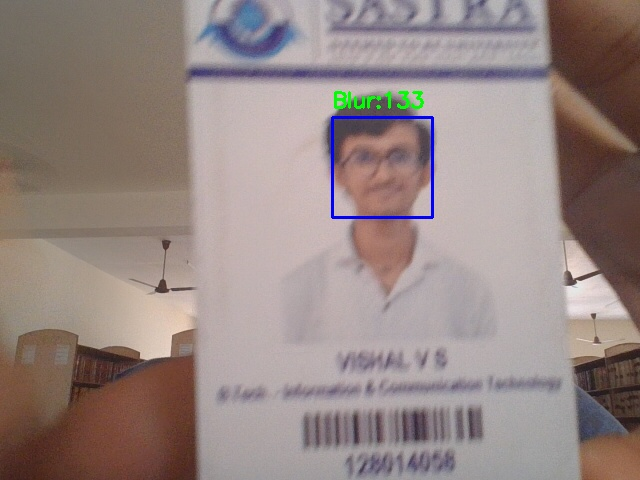fake: (332, 117, 432, 217)
